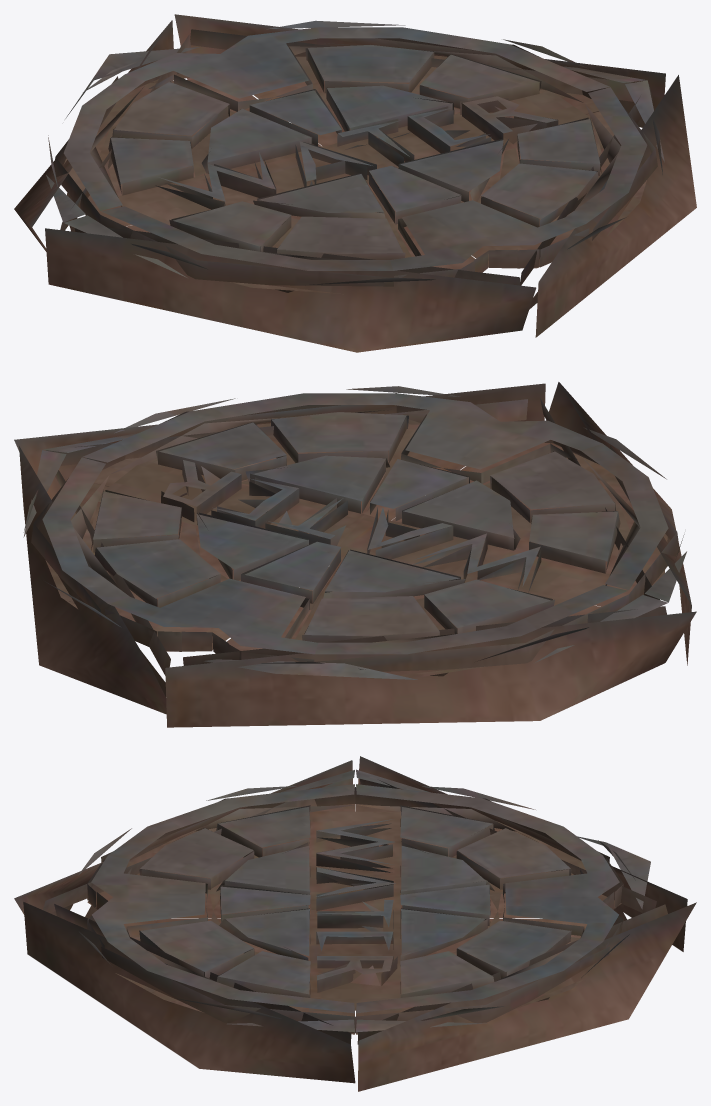
File: water_manhole_cover.glb
The picture shows the model from 3 angles, top to bottom: view 1: azimuth 30°, elevation 25°; view 2: azimuth 150°, elevation 25°; view 3: azimuth 270°, elevation 25°; orthographic projection. The views are drawn at different scales.
Visible parts, largest first — view 1: water_manhole_cover, water_manhole_cover_frame; view 2: water_manhole_cover, water_manhole_cover_frame; view 3: water_manhole_cover, water_manhole_cover_frame.
Part boxes in pixels (box(x1,y1,x2,y2)): water_manhole_cover: box(53, 27, 657, 294); water_manhole_cover_frame: box(14, 14, 696, 352); water_manhole_cover: box(31, 393, 679, 678); water_manhole_cover_frame: box(14, 382, 696, 727); water_manhole_cover: box(87, 784, 623, 1034); water_manhole_cover_frame: box(14, 756, 696, 1091).
Bounding box in the file's own units: 0.7668 × 0.0678 × 0.7668.
Materials: 1 (1 with a texture image).
